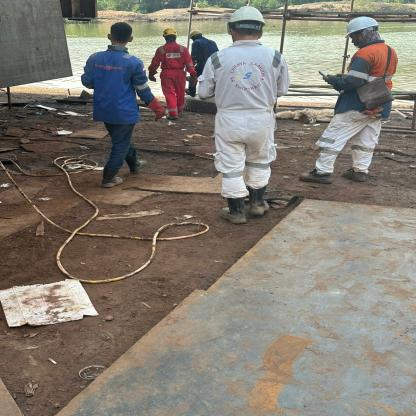bota: (244, 186, 275, 219), (216, 197, 249, 226), (294, 168, 334, 186), (124, 153, 152, 175), (340, 167, 371, 185), (102, 166, 125, 188), (166, 112, 182, 120)
